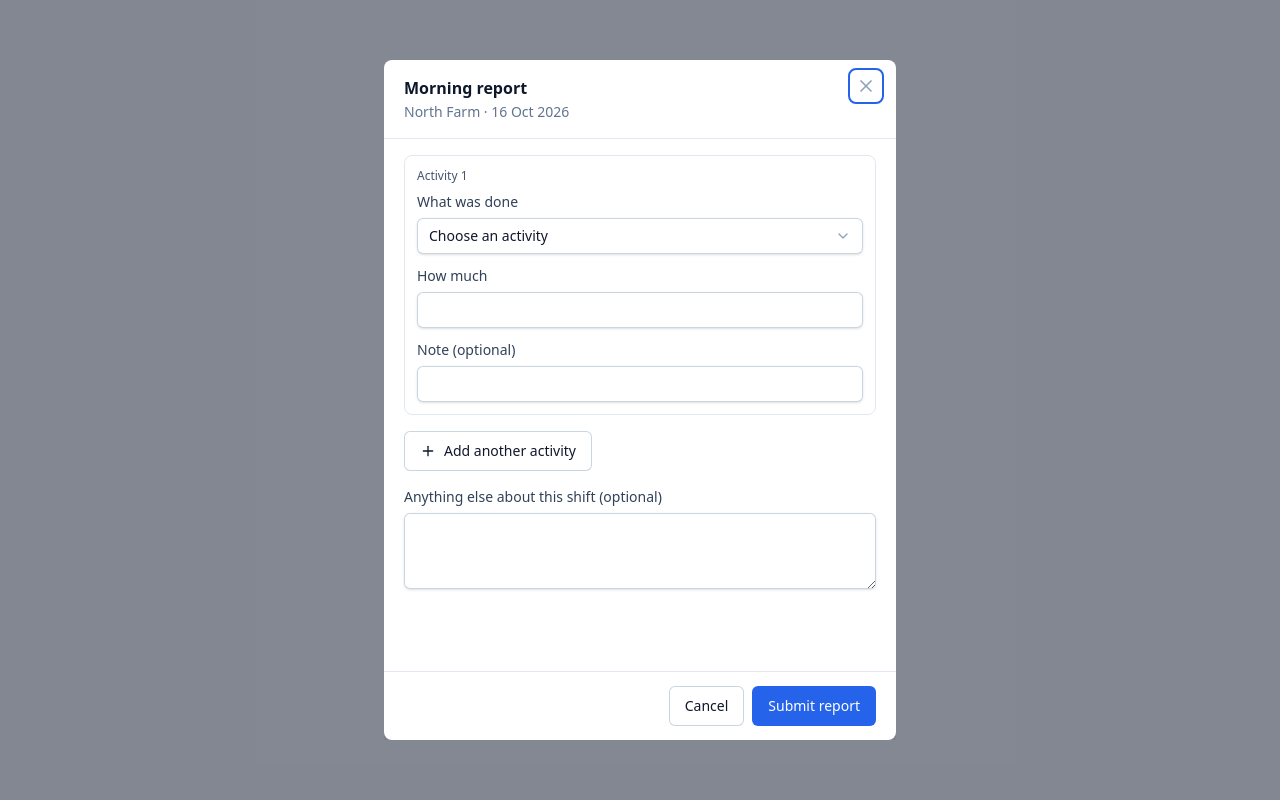
Test case: field report submission › refuses a quantity of zero or a word
The image size is (1280, 800).
Select "Harvesting (kg)" in the dropdown labelled "What was done" at (640, 236), box [417, 218, 863, 254]
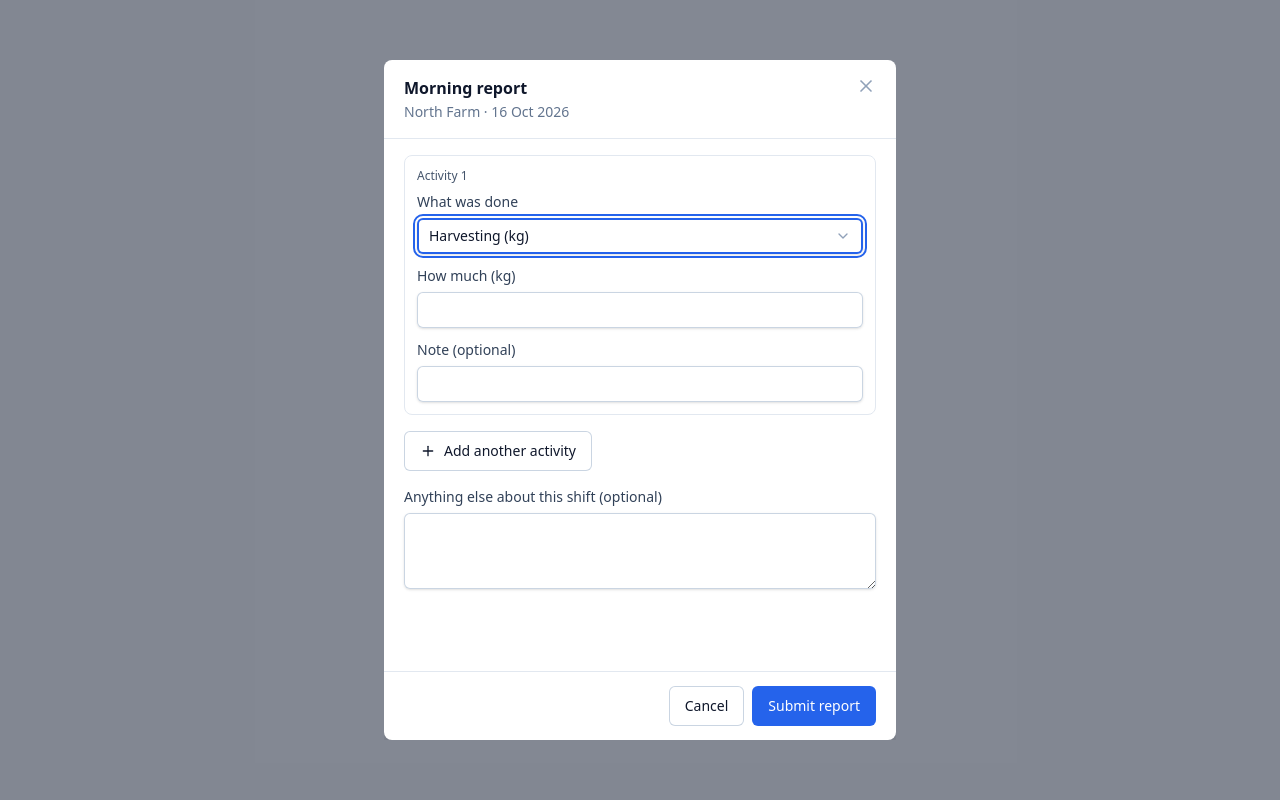
Type "0" into the number field labelled "How much (kg)".
click(640, 310); type("0")  # box [417, 292, 863, 328]
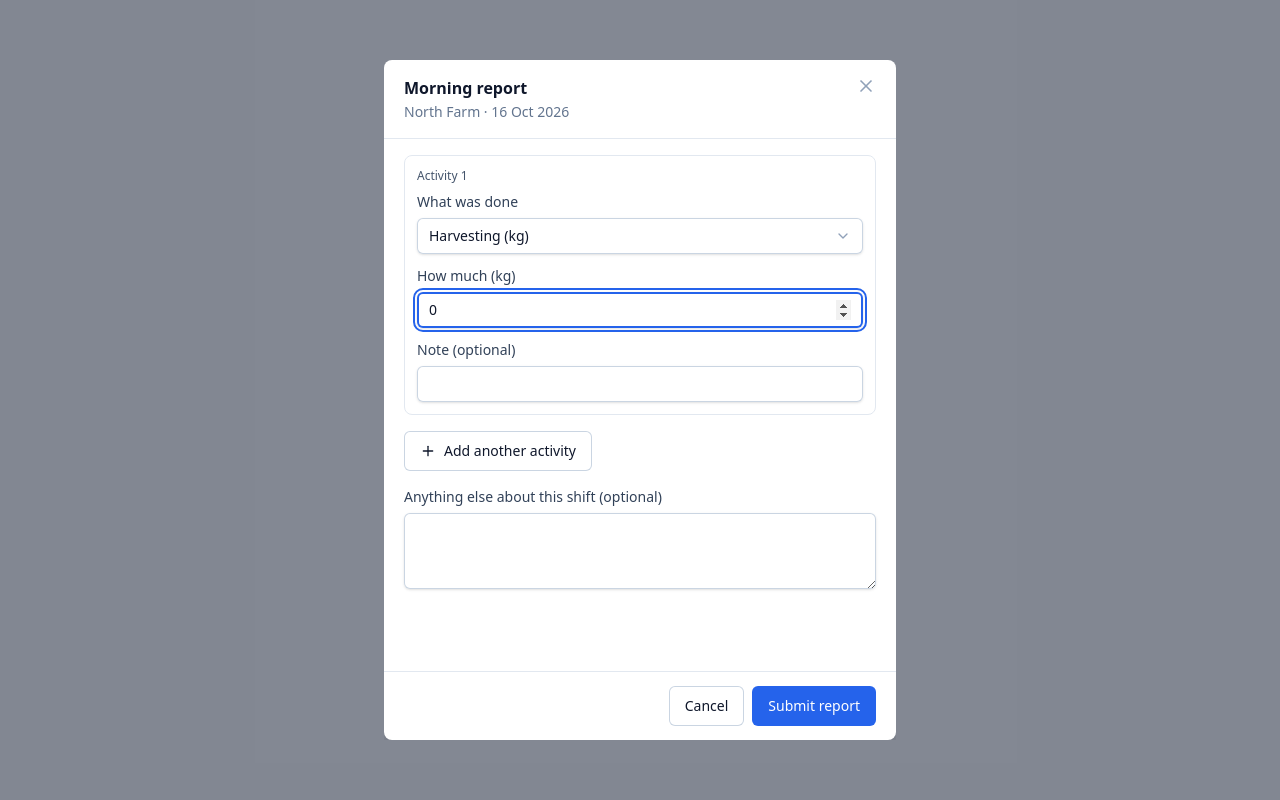
Click the button "Submit report".
click(814, 706)  # box [752, 686, 876, 726]
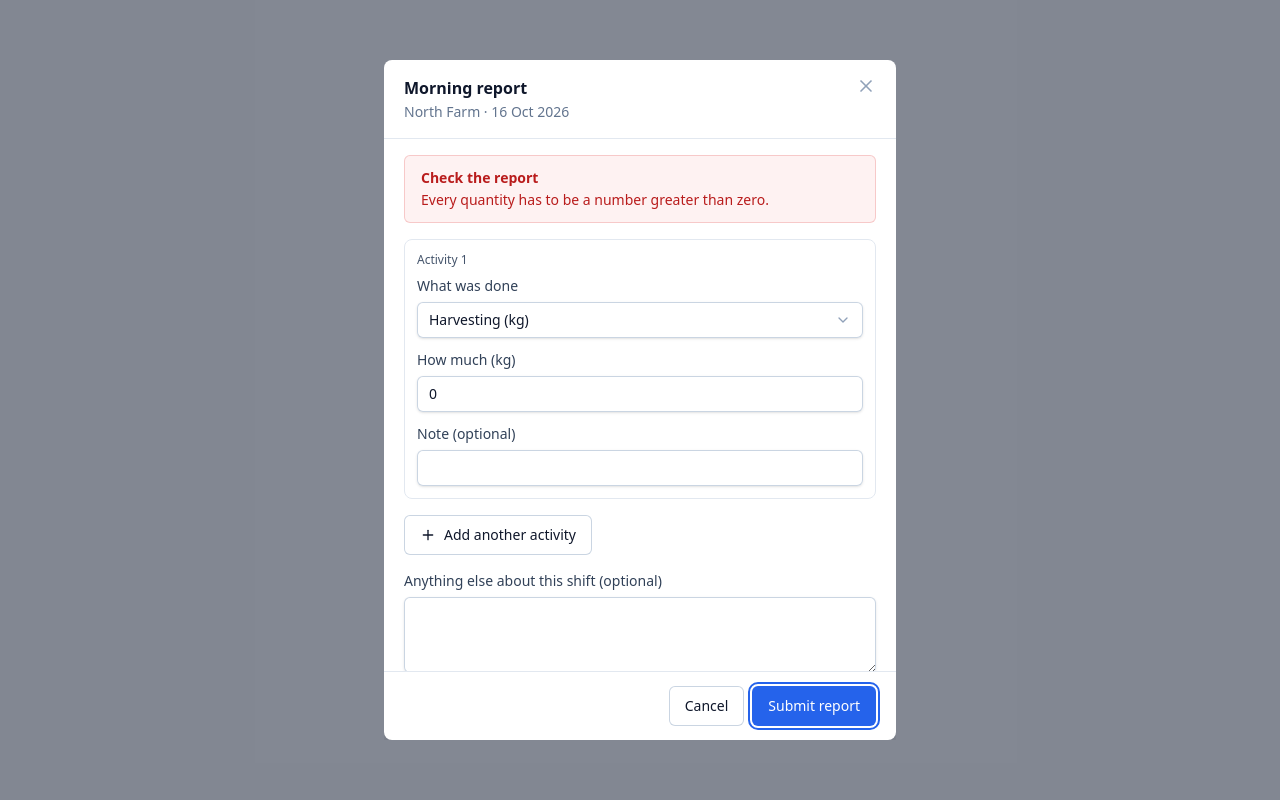
Expected: the text "Every quantity has to be a number greater than zero." is shown, [421, 190, 769, 209]
